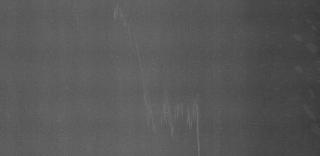silk spot: (141, 76, 209, 140), (112, 8, 138, 40)
